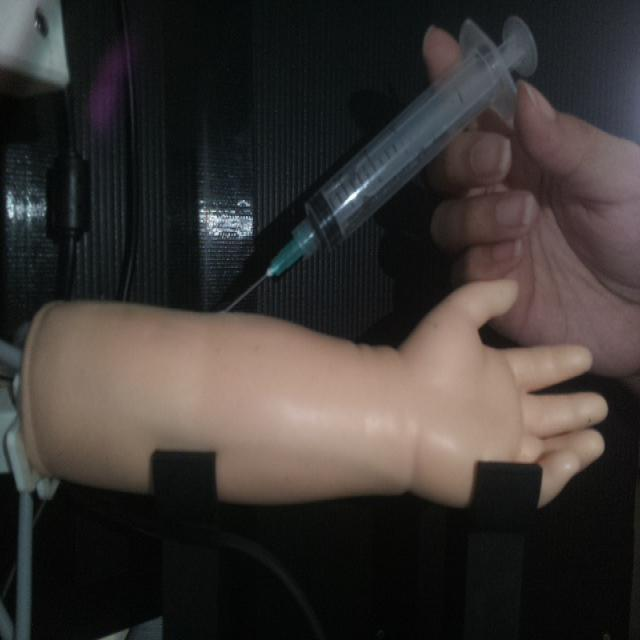Outside: (219, 15, 540, 318)
